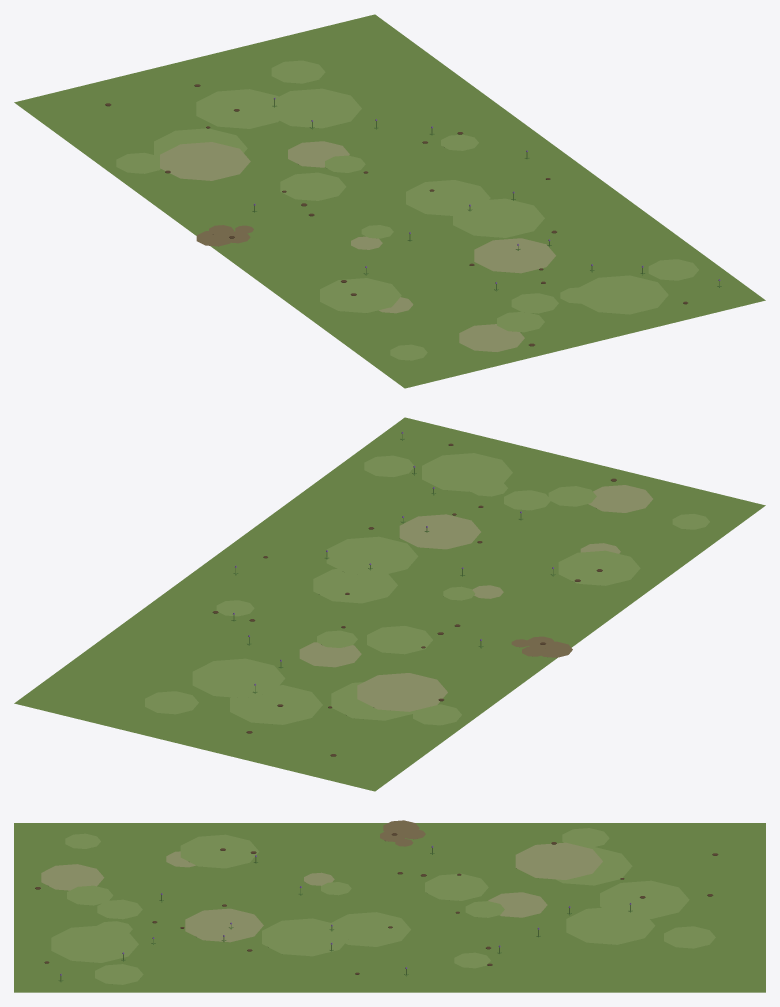
The model's file is lwf_cow_pasture_ground_v1.glb.
3 views of the same model, one above another, from view 1: azimuth 30°, elevation 25°; view 2: azimuth 150°, elevation 25°; view 3: azimuth 270°, elevation 25° (orthographic). The views are drawn at different scales.
Parts seen in each view (by area): view 1: LWF_CowPasture_Ground; view 2: LWF_CowPasture_Ground; view 3: LWF_CowPasture_Ground.
Part boxes in pixels (left/top/right/bottom): LWF_CowPasture_Ground: left=14, top=14, right=765, bottom=388; LWF_CowPasture_Ground: left=14, top=417, right=765, bottom=791; LWF_CowPasture_Ground: left=14, top=820, right=765, bottom=992.
Size of the model in its own units: 25.98 by 0.6944 by 48.
Materials: 1 (1 with a texture image).
